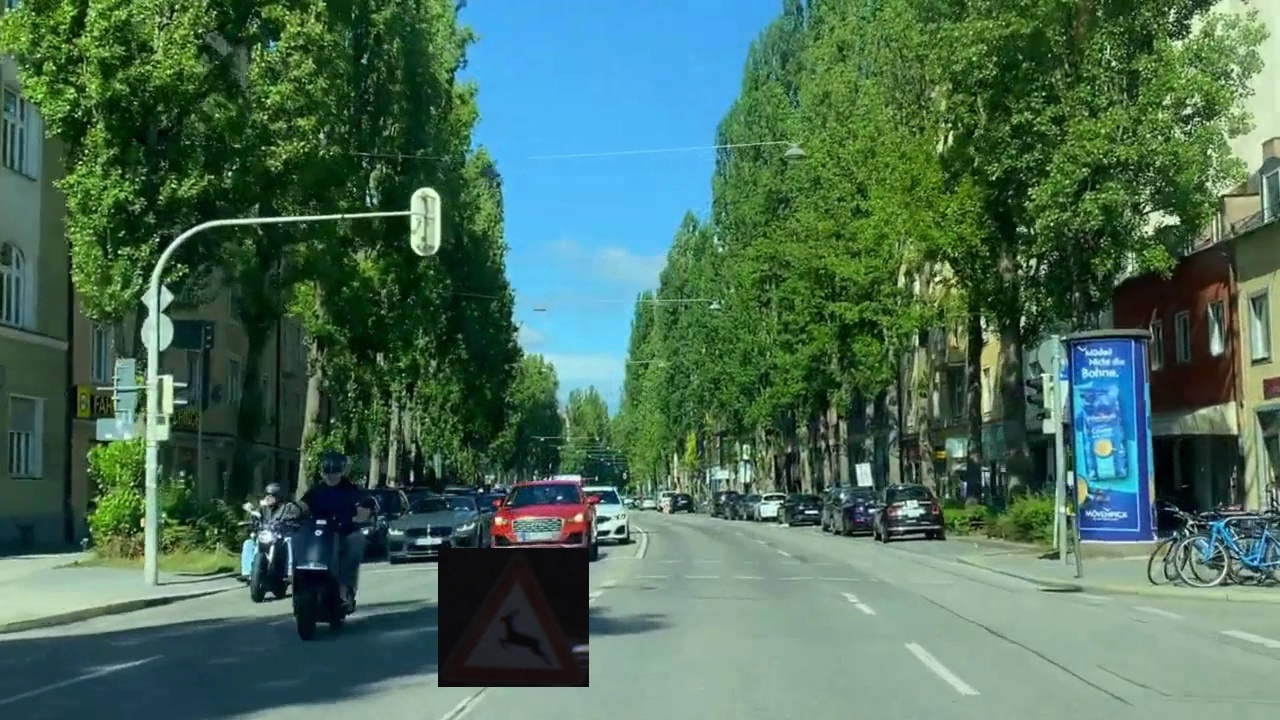Wild animals: (438, 548, 589, 687)
